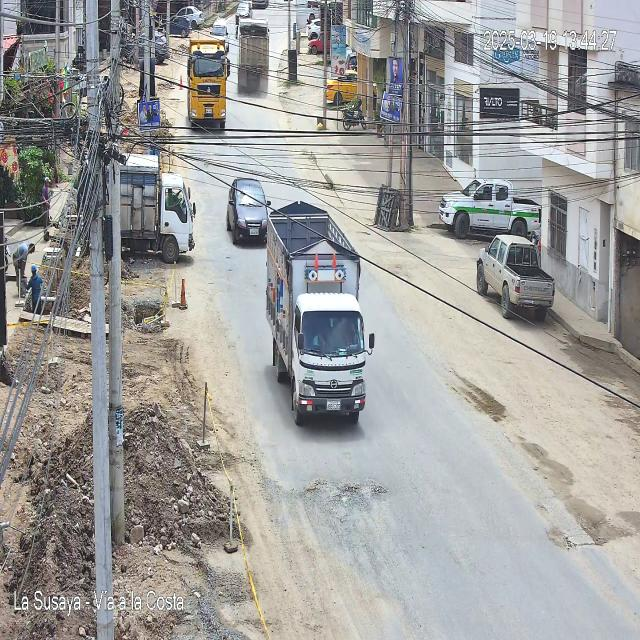TRUCK: (265, 204, 373, 423)
